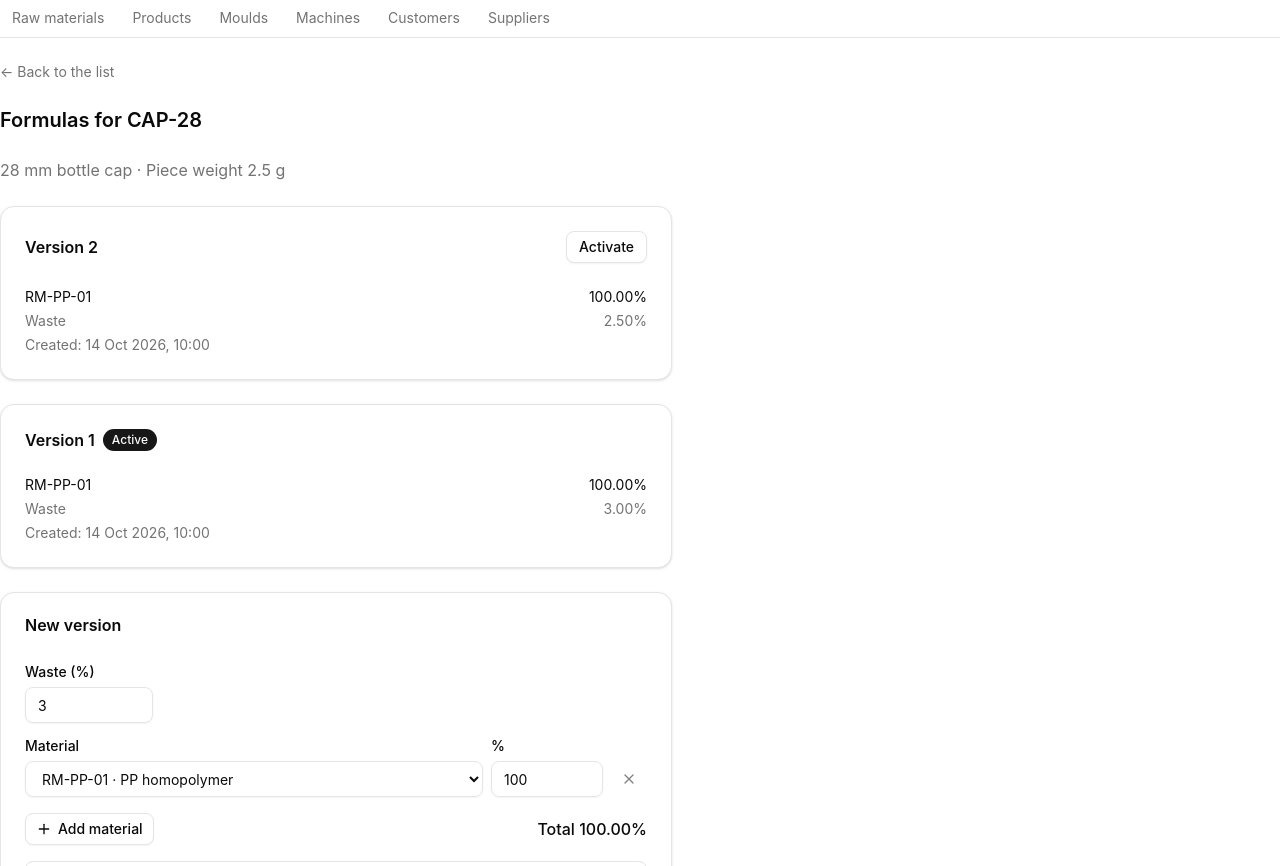
formulas › activates a version only after confirming it
Note: Only the inactive version offers Activate.
Click the button "Activate": (606, 247) [566,231,647,263]
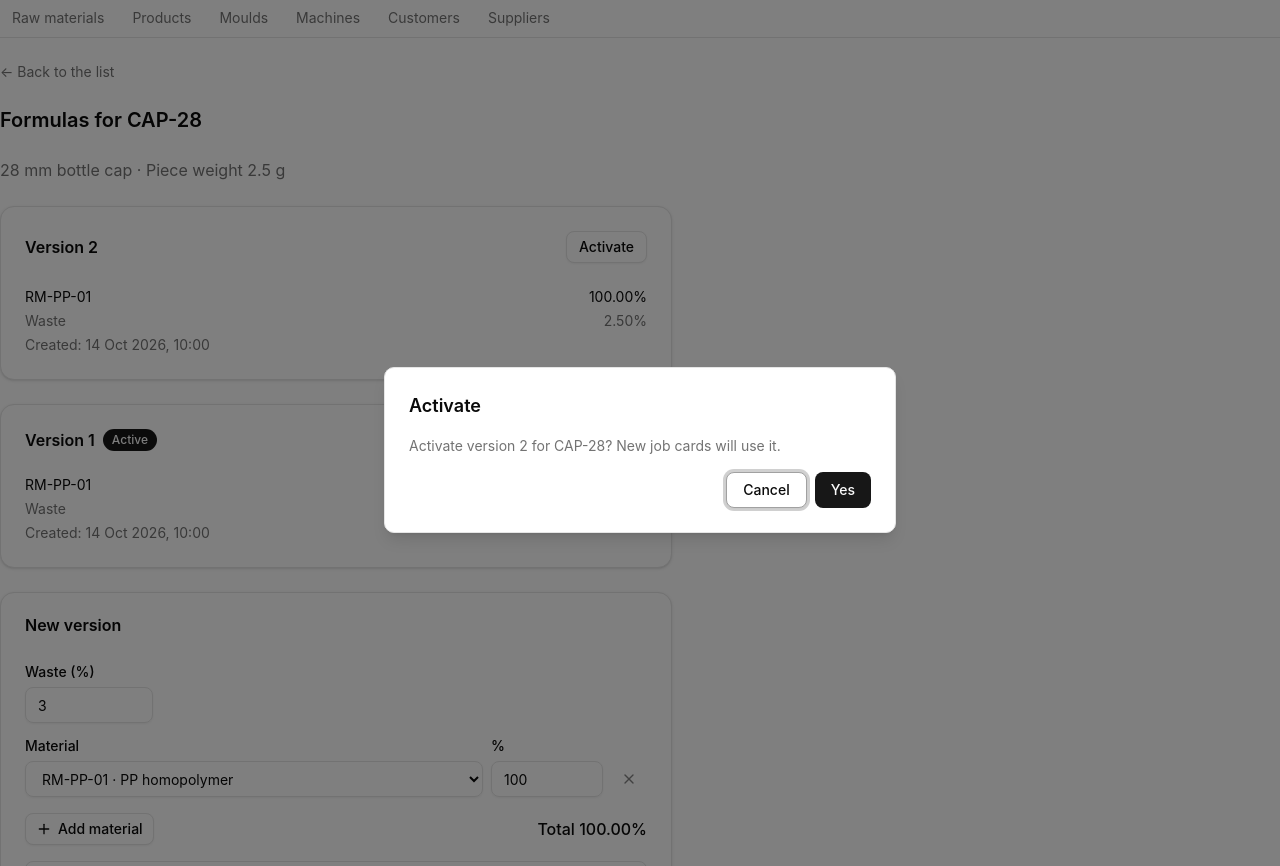
Check: the text "Activate version 2 for CAP-28? New job cards will use it." is shown, box [409,437,781,454]
Click the button "Cancel": (766, 490) [726,472,807,508]
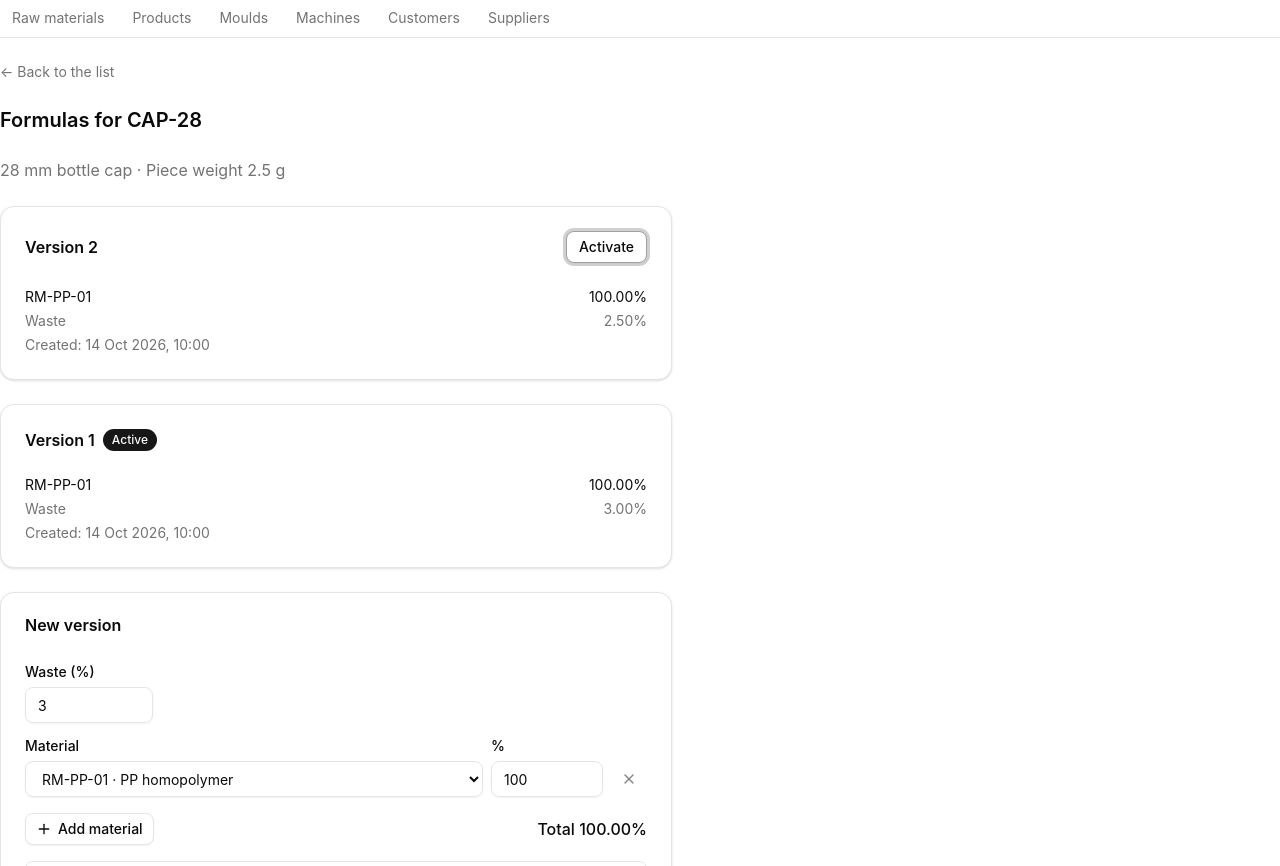
Click the button "Activate": (606, 247) [566,231,647,263]
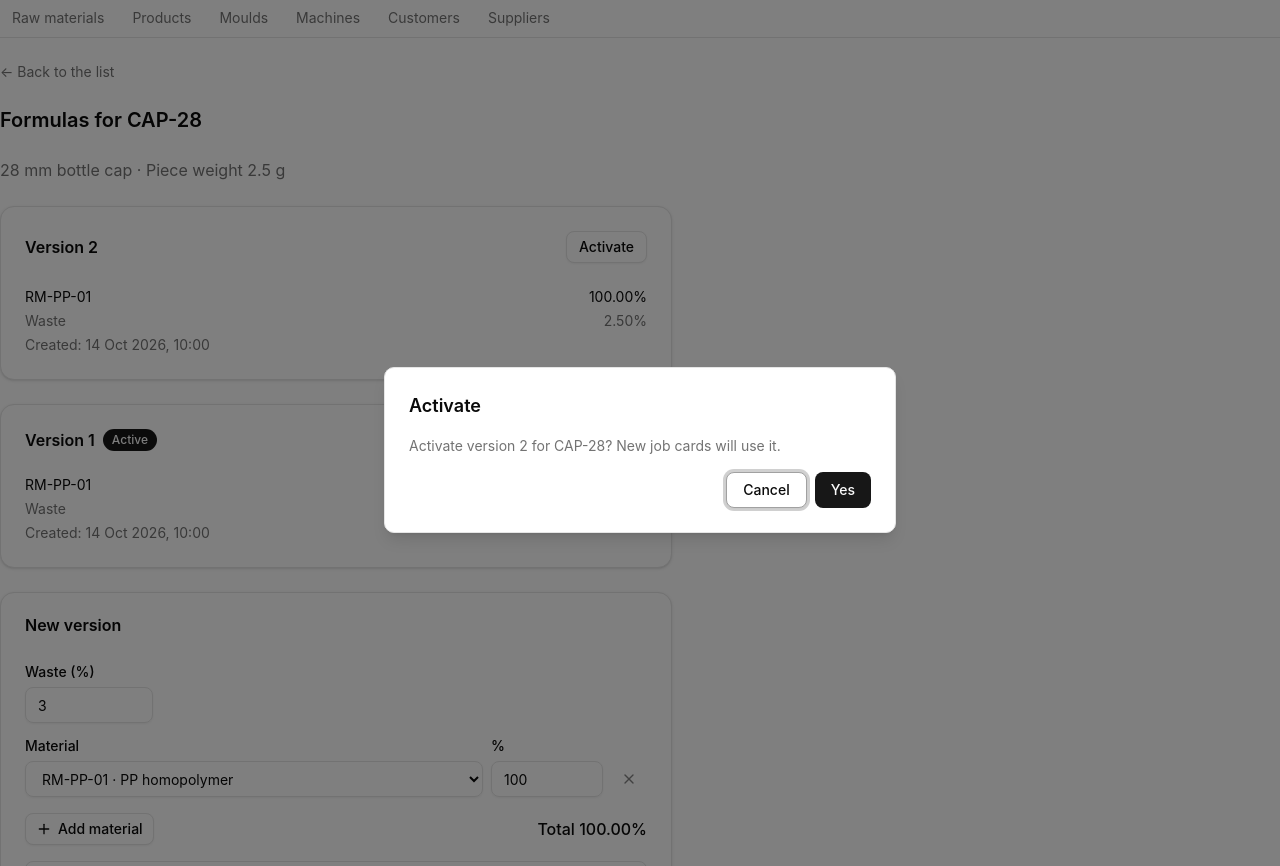
Click the button "Yes": (843, 490) [815,472,871,508]
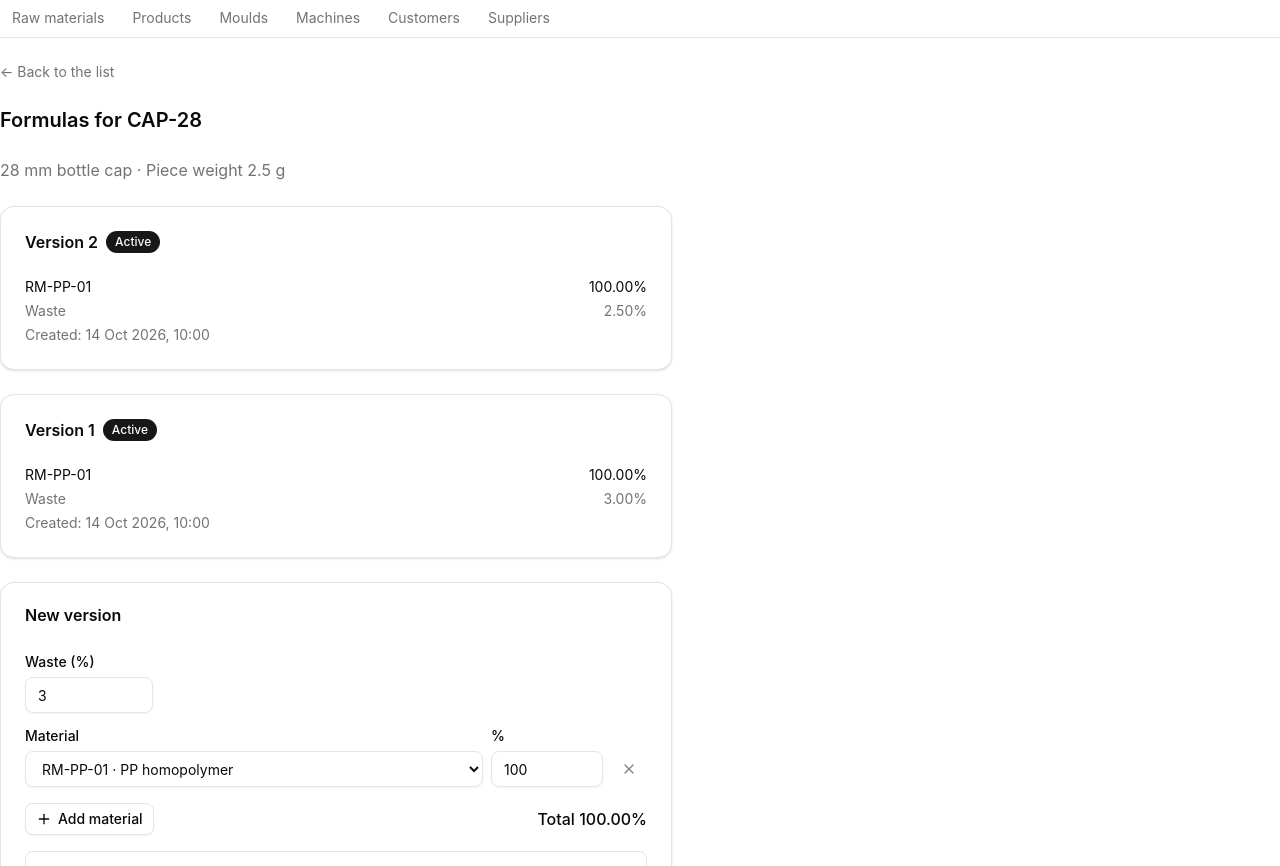
Check: the text "Active" is shown 2 times, box [106,231,160,253]; [103,419,157,441]
Check: the dialog is gone
